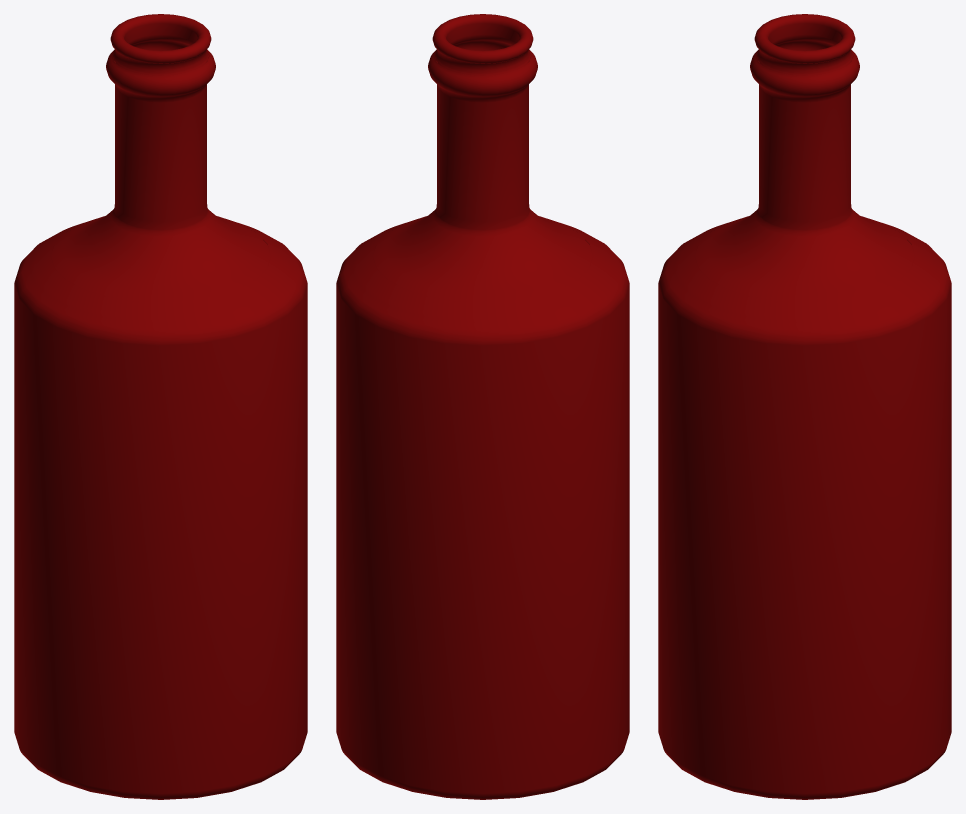
3 renders of one model, left to right at view 1: azimuth 30°, elevation 25°; view 2: azimuth 150°, elevation 25°; view 3: azimuth 270°, elevation 25°, orthographic.
Visible parts, largest first — view 1: mesh1_mesh1-geometry, mesh4_mesh4-geometry, mesh2_mesh2-geometry, mesh3_mesh3-geometry; view 2: mesh1_mesh1-geometry, mesh4_mesh4-geometry, mesh2_mesh2-geometry, mesh3_mesh3-geometry; view 3: mesh1_mesh1-geometry, mesh4_mesh4-geometry, mesh2_mesh2-geometry, mesh3_mesh3-geometry.
Boxes of the visible parts, x1,y1,x2,y2 form: mesh1_mesh1-geometry: (14,216,307,799); mesh4_mesh4-geometry: (51,49,270,302); mesh2_mesh2-geometry: (50,14,271,302); mesh3_mesh3-geometry: (112,50,209,75); mesh1_mesh1-geometry: (336,216,629,799); mesh4_mesh4-geometry: (373,49,592,302); mesh2_mesh2-geometry: (372,14,593,302); mesh3_mesh3-geometry: (434,50,531,75); mesh1_mesh1-geometry: (658,216,951,799); mesh4_mesh4-geometry: (695,49,914,302); mesh2_mesh2-geometry: (694,14,915,302); mesh3_mesh3-geometry: (756,50,853,75).
Size of the model in its own units: 0.3312 by 0.8835 by 0.3312.
